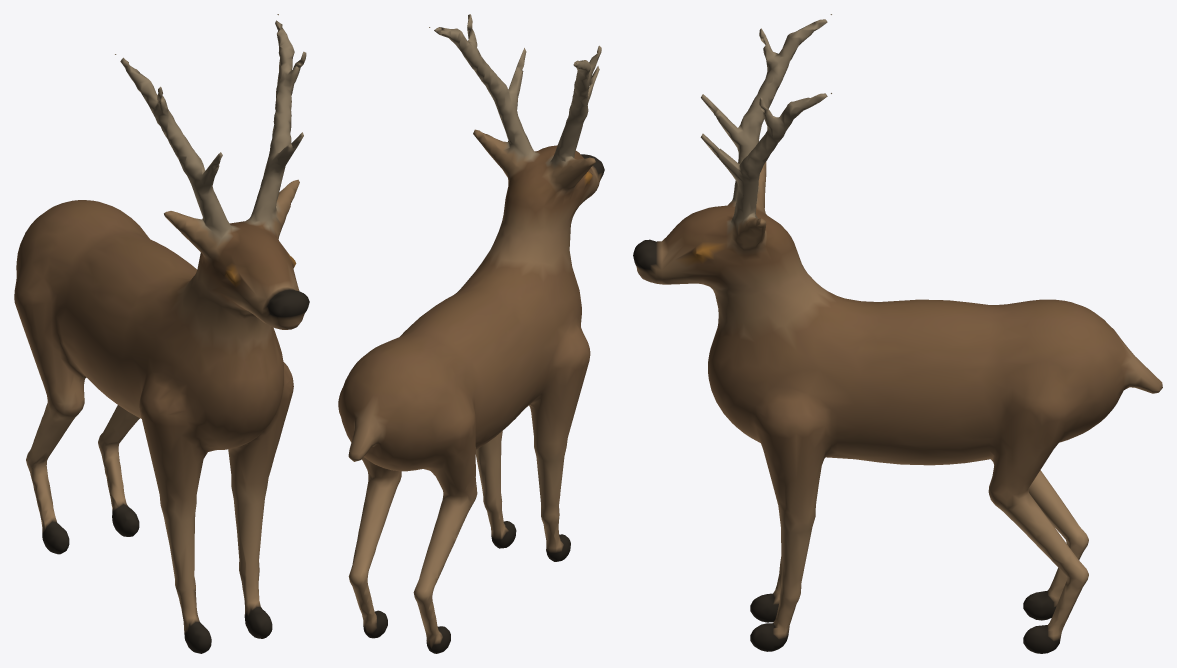
File: deer-near.glb
3 views of the same model, side by side, from view 1: azimuth 30°, elevation 25°; view 2: azimuth 150°, elevation 25°; view 3: azimuth 270°, elevation 25° (orthographic). The views are drawn at different scales.
Visible parts, largest first — view 1: deer-near; view 2: deer-near; view 3: deer-near.
Boxes of the visible parts, left/top/right/bottom form: deer-near: left=14, top=14, right=309, bottom=653; deer-near: left=338, top=14, right=604, bottom=653; deer-near: left=633, top=14, right=1162, bottom=653.
Bounding box in the file's own units: 0.6427 × 2.2 × 1.81.
